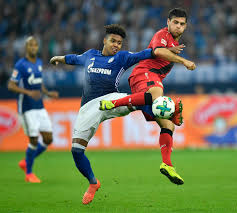soccer player: (49, 25, 196, 206), (99, 9, 197, 186), (6, 35, 54, 186)
soccerball: (151, 96, 176, 120)
